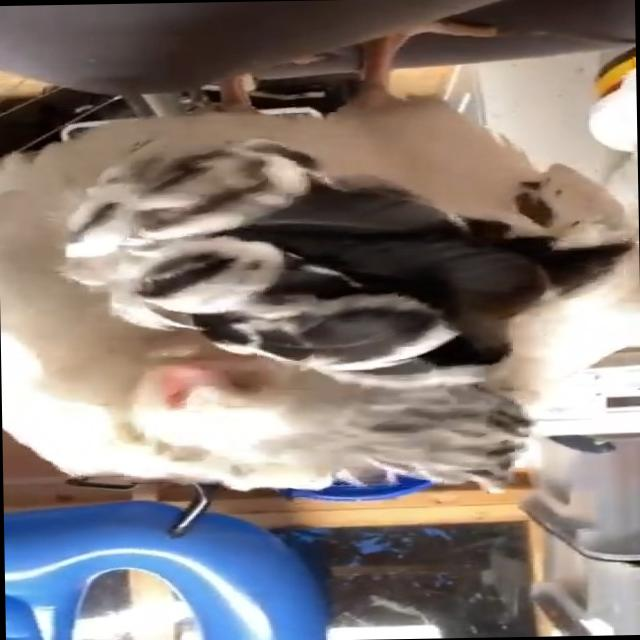self preening: (0, 38, 621, 511)
